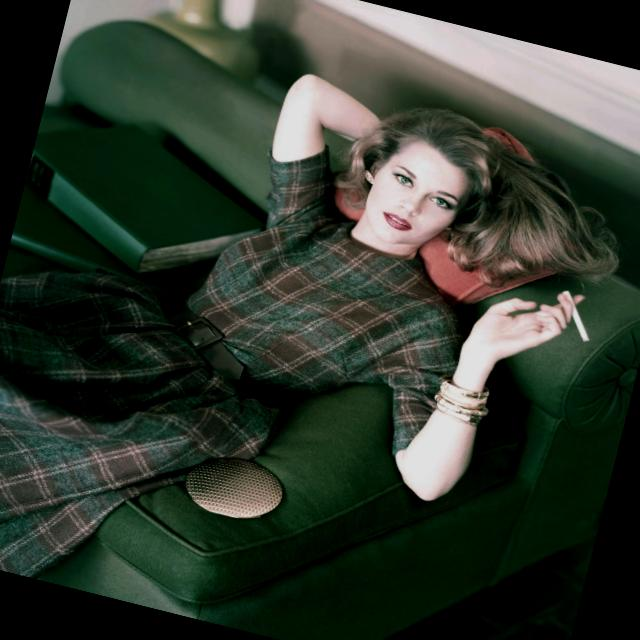cigarette: (546, 279, 623, 350)
